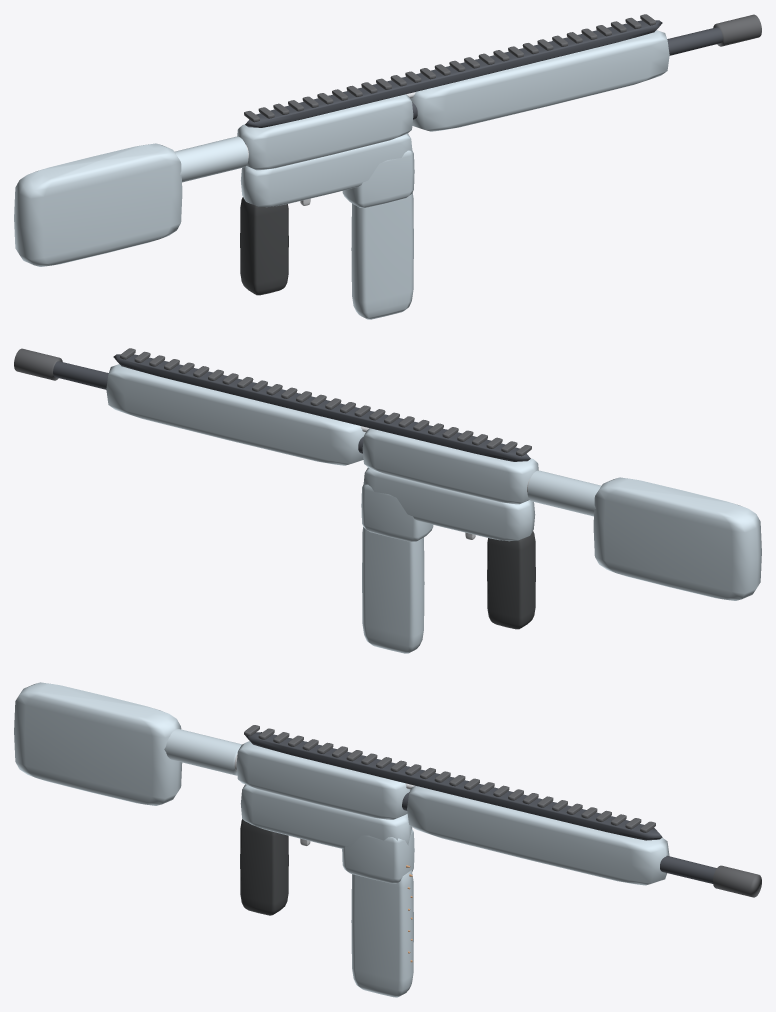
File: uar15-glass.glb
3 renders of one model, top to bottom at view 1: azimuth 30°, elevation 25°; view 2: azimuth 150°, elevation 25°; view 3: azimuth 330°, elevation 25°, orthographic.
Visible parts, largest first — view 1: buttstock_body, handguard_mlok, upper_receiver, stanag_mag, lower_receiver, top_rail, pistol_grip, magwell, buffer_tube, barrel_368mm, flash_hider; view 2: buttstock_body, handguard_mlok, upper_receiver, stanag_mag, lower_receiver, top_rail, pistol_grip, magwell, buffer_tube, barrel_368mm, flash_hider; view 3: buttstock_body, handguard_mlok, upper_receiver, stanag_mag, lower_receiver, top_rail, pistol_grip, magwell, buffer_tube, flash_hider, barrel_368mm.
Part boxes in pixels (x1,y1,x2,y2): buttstock_body: (14, 143, 182, 266); handguard_mlok: (410, 30, 669, 131); upper_receiver: (237, 94, 413, 170); stanag_mag: (351, 193, 413, 319); lower_receiver: (240, 133, 412, 207); top_rail: (245, 20, 662, 127); pistol_grip: (240, 197, 288, 295); magwell: (342, 150, 414, 207); buffer_tube: (174, 136, 248, 182); barrel_368mm: (412, 27, 722, 119); flash_hider: (713, 14, 761, 46); buttstock_body: (593, 477, 761, 600); handguard_mlok: (106, 364, 365, 465); upper_receiver: (362, 428, 538, 504); stanag_mag: (362, 527, 424, 653); lower_receiver: (363, 467, 535, 541); top_rail: (113, 354, 530, 461); pistol_grip: (487, 531, 535, 629); magwell: (361, 484, 433, 541); buffer_tube: (527, 470, 601, 516); barrel_368mm: (53, 361, 363, 453); flash_hider: (14, 348, 62, 380); buttstock_body: (14, 682, 182, 805); handguard_mlok: (407, 785, 669, 885); upper_receiver: (236, 741, 410, 819); stanag_mag: (351, 870, 413, 997); lower_receiver: (240, 784, 412, 848); top_rail: (245, 732, 662, 840); pistol_grip: (240, 819, 288, 915); magwell: (342, 828, 414, 883); buffer_tube: (164, 729, 241, 775); flash_hider: (713, 865, 761, 897); barrel_368mm: (402, 792, 716, 883).
Size of the model in its own units: 0.83 by 0.2485 by 0.04.
